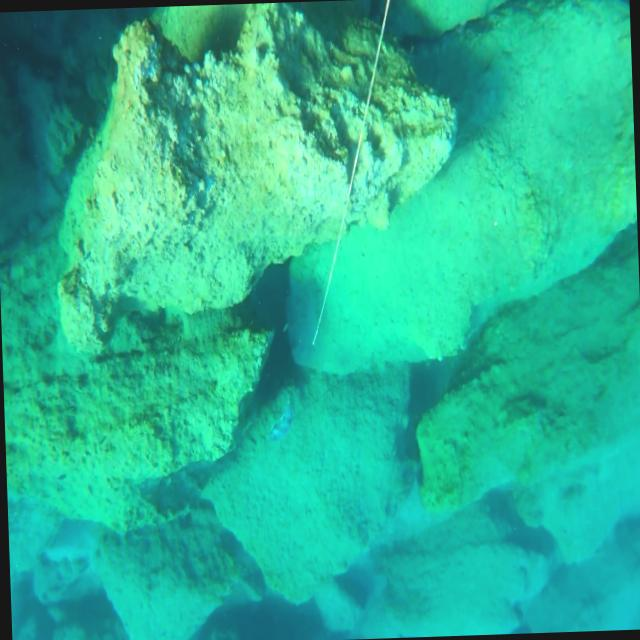Balon Baligi: (266, 398, 291, 440)
